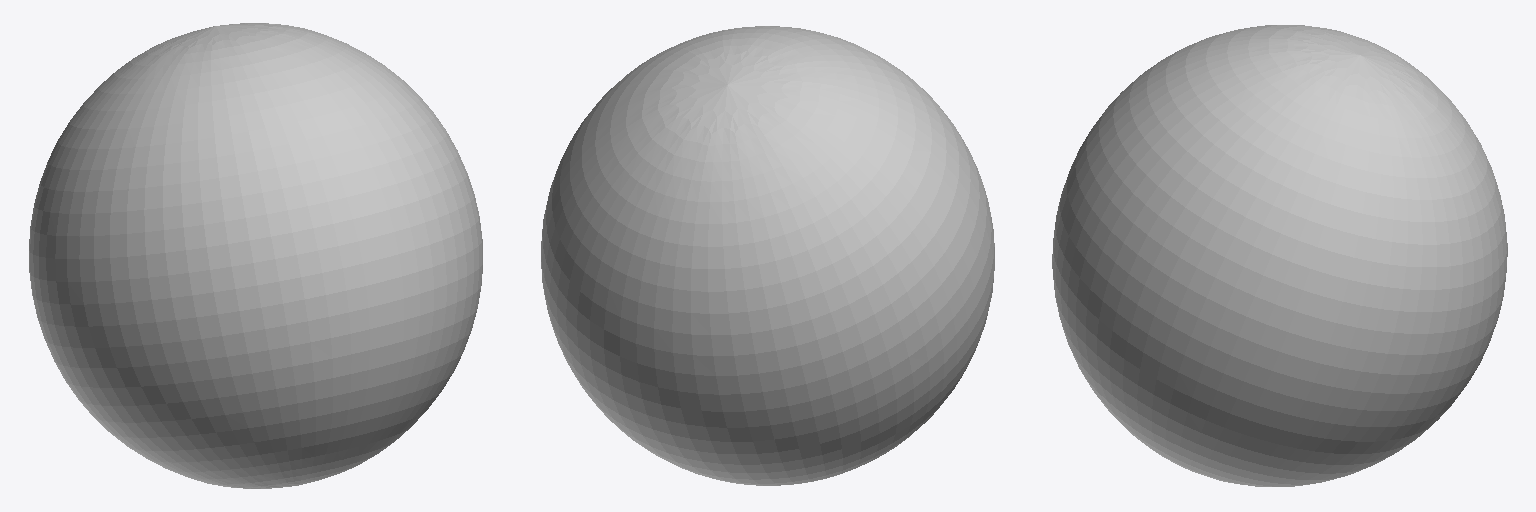
File: ball5.obj
3 views of the same model, side by side, from view 1: azimuth 30°, elevation 25°; view 2: azimuth 150°, elevation 25°; view 3: azimuth 270°, elevation 25° (orthographic).
Visible parts, largest first — view 1: Sphere01.009; view 2: Sphere01.009; view 3: Sphere01.009.
Part boxes in pixels (bbox=[...]): Sphere01.009: bbox=[29, 23, 482, 488]; Sphere01.009: bbox=[541, 26, 994, 485]; Sphere01.009: bbox=[1052, 25, 1507, 486].
Bounding box in the file's own units: 5.45 × 5.58 × 5.46.